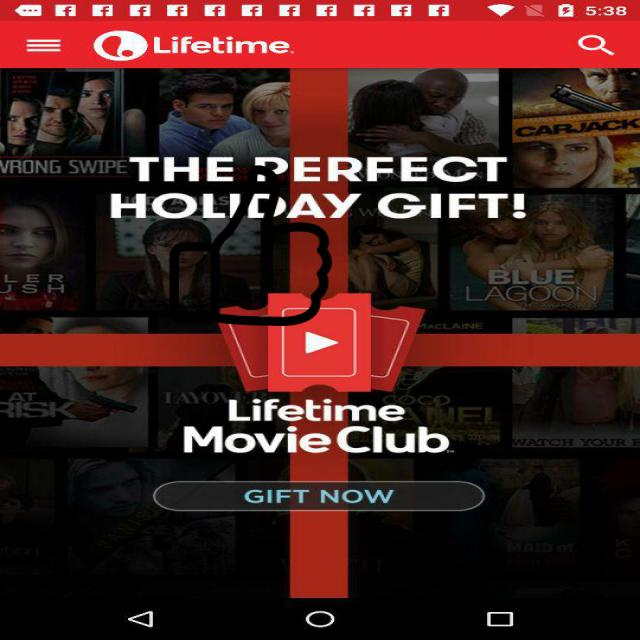privacy zuckering: (167, 165, 334, 326)
